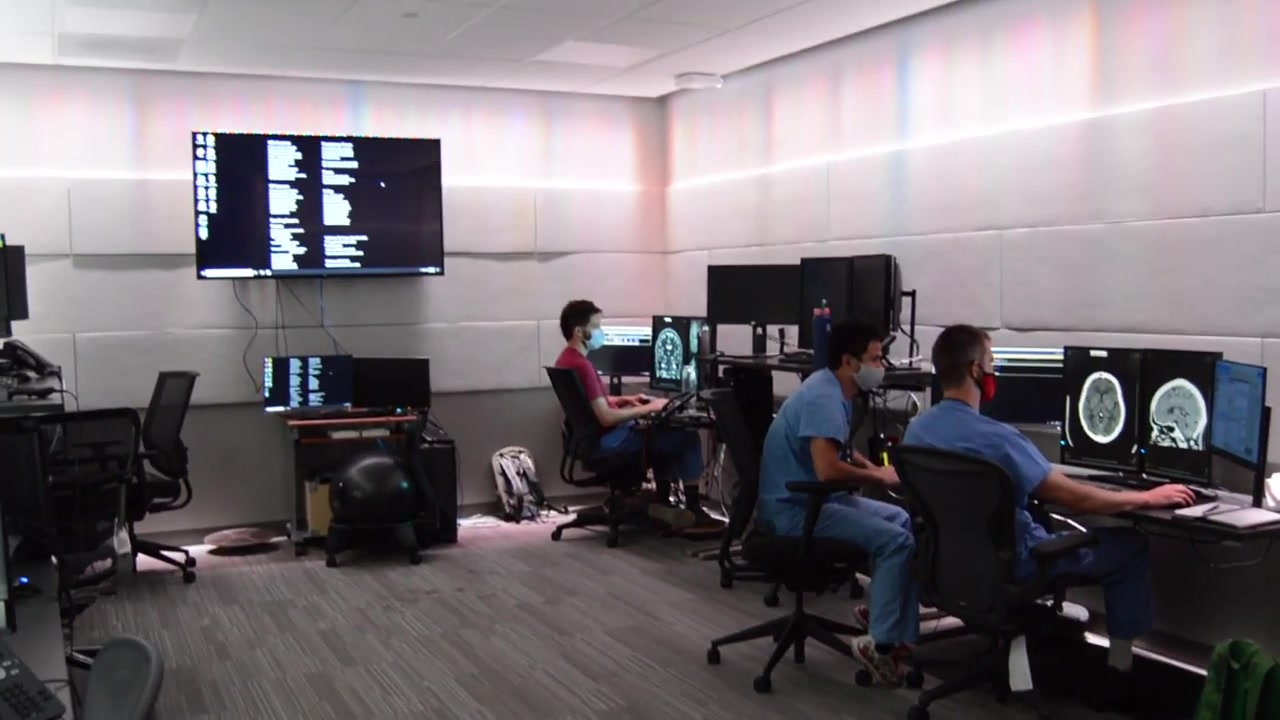TV: (192, 132, 445, 280)
chair: (892, 444, 1107, 720), (709, 360, 882, 685), (38, 407, 141, 670), (72, 370, 196, 586), (541, 365, 676, 548), (325, 453, 425, 562), (83, 633, 166, 720)
computer: (1138, 347, 1223, 484), (1060, 346, 1140, 483), (1210, 360, 1267, 472), (707, 264, 800, 325), (264, 355, 353, 413), (798, 254, 850, 349), (650, 315, 707, 392), (352, 357, 430, 411), (850, 254, 898, 324), (587, 325, 652, 376)
countertop: (1045, 461, 1280, 541), (1, 557, 74, 720)
mouse: (10, 576, 44, 598)
staff: (900, 324, 1190, 704), (754, 317, 920, 690), (553, 299, 727, 533)
table: (286, 413, 459, 555)
telephone: (1, 639, 66, 720)
